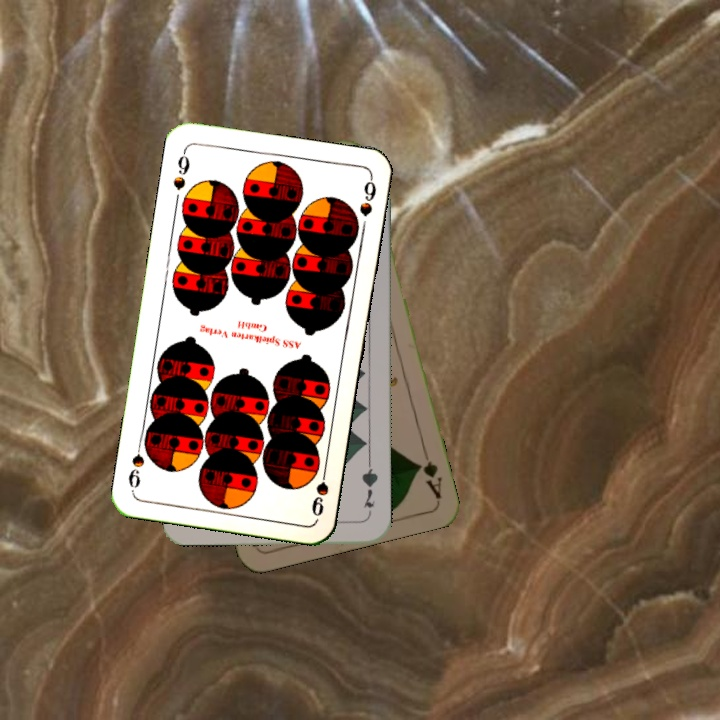G7: (358, 460, 381, 511)
GA: (413, 444, 445, 502)
S9: (307, 460, 331, 519), (169, 145, 192, 193)
